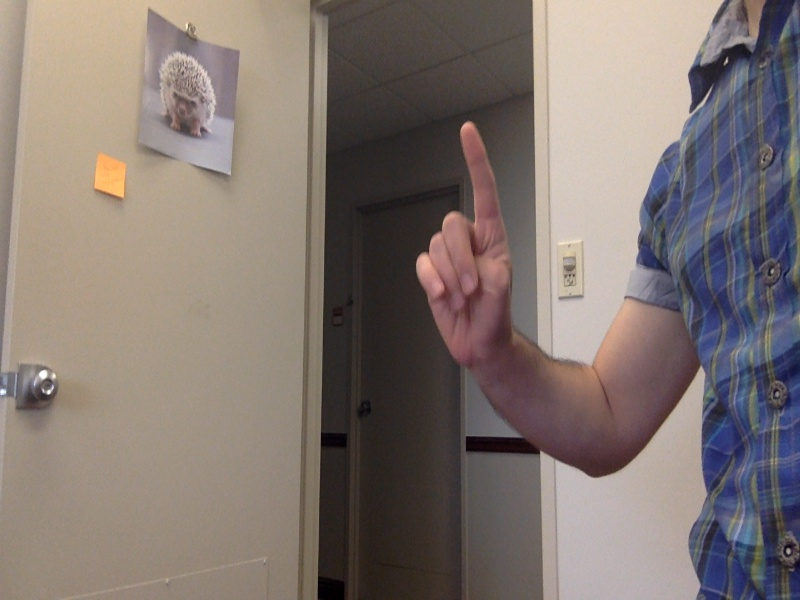1-hand: (416, 120, 512, 370)
